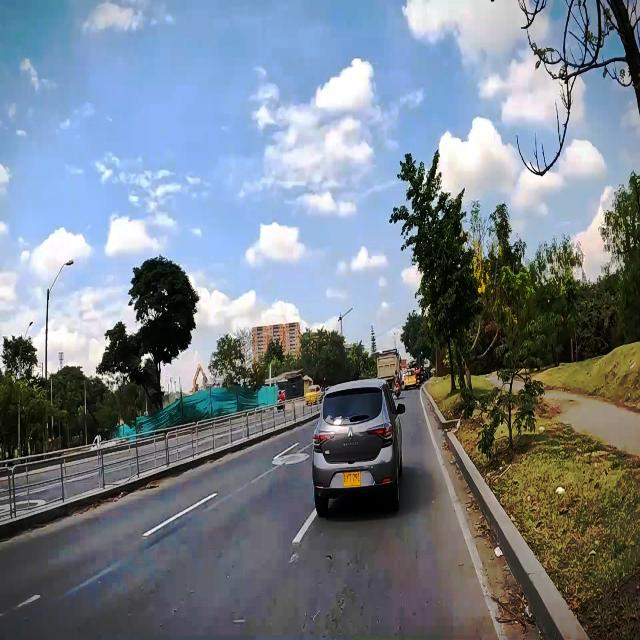license_plate: (342, 470, 361, 486)
